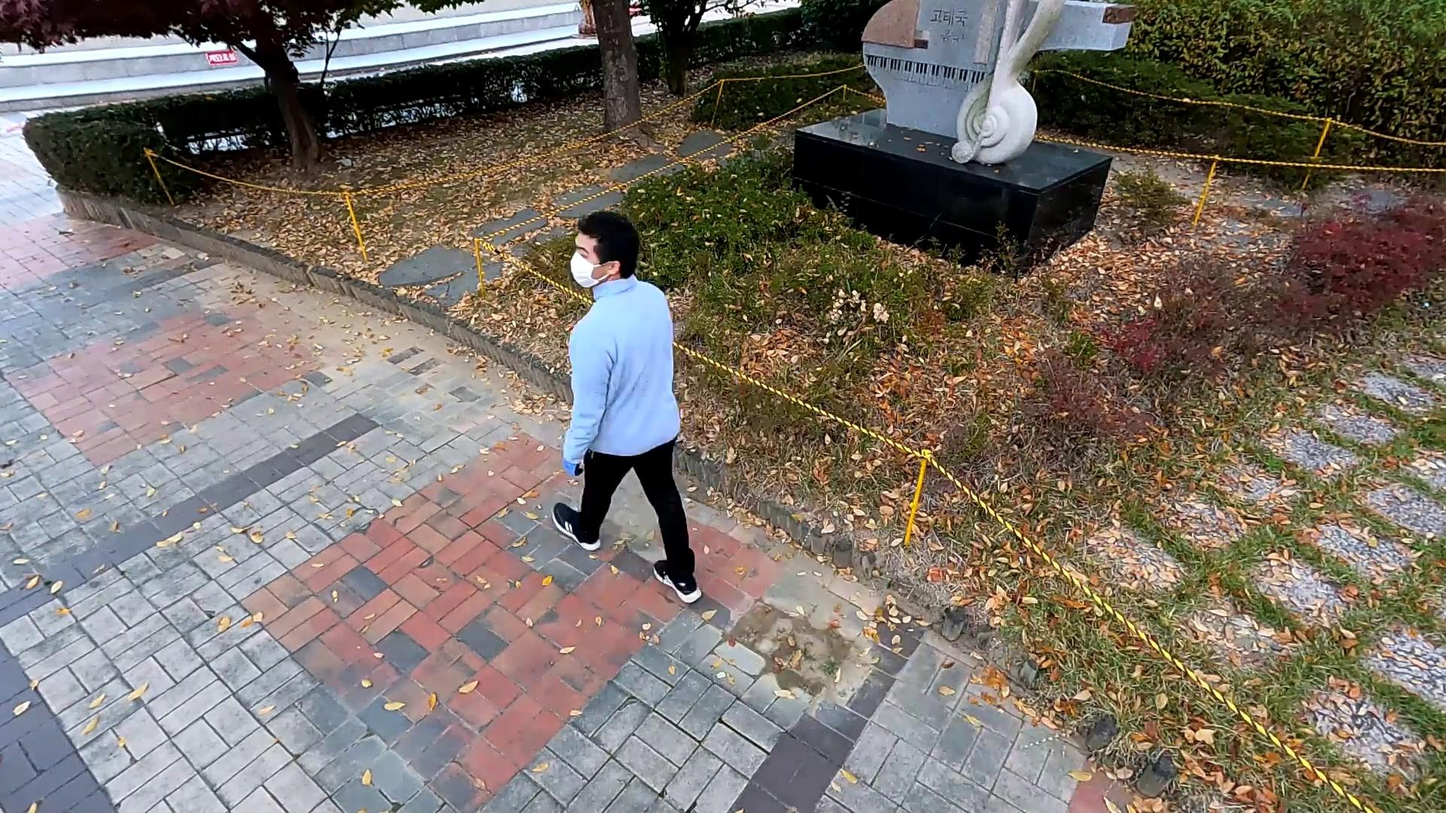person: (546, 204, 706, 601)
